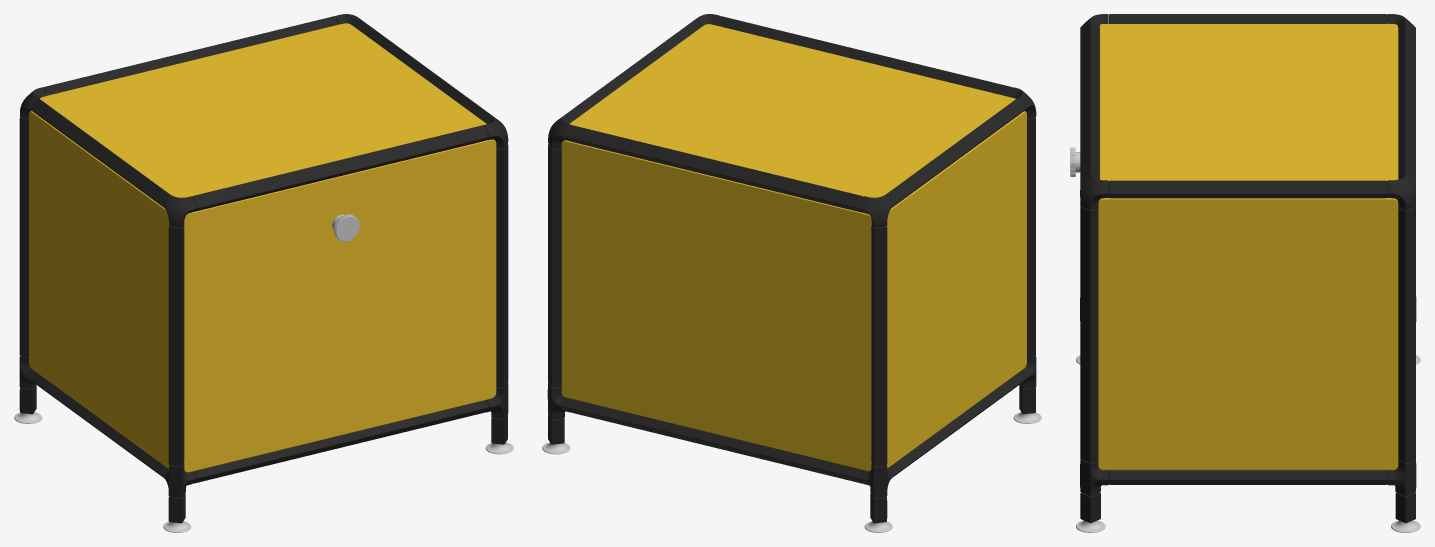
3 renders of one model, left to right at view 1: azimuth 30°, elevation 25°; view 2: azimuth 150°, elevation 25°; view 3: azimuth 270°, elevation 25°, orthographic. The views are drawn at different scales.
Visible parts, largest first — view 1: 479x374x374; view 2: 479x374x374; view 3: 479x374x374.
Part boxes in pixels (x1,y1,x2,y2): 479x374x374: [14, 14, 513, 532]; 479x374x374: [542, 14, 1041, 532]; 479x374x374: [1070, 14, 1420, 532].
Bounding box in the file's own units: 0.5689 × 0.5133 × 0.4707.
